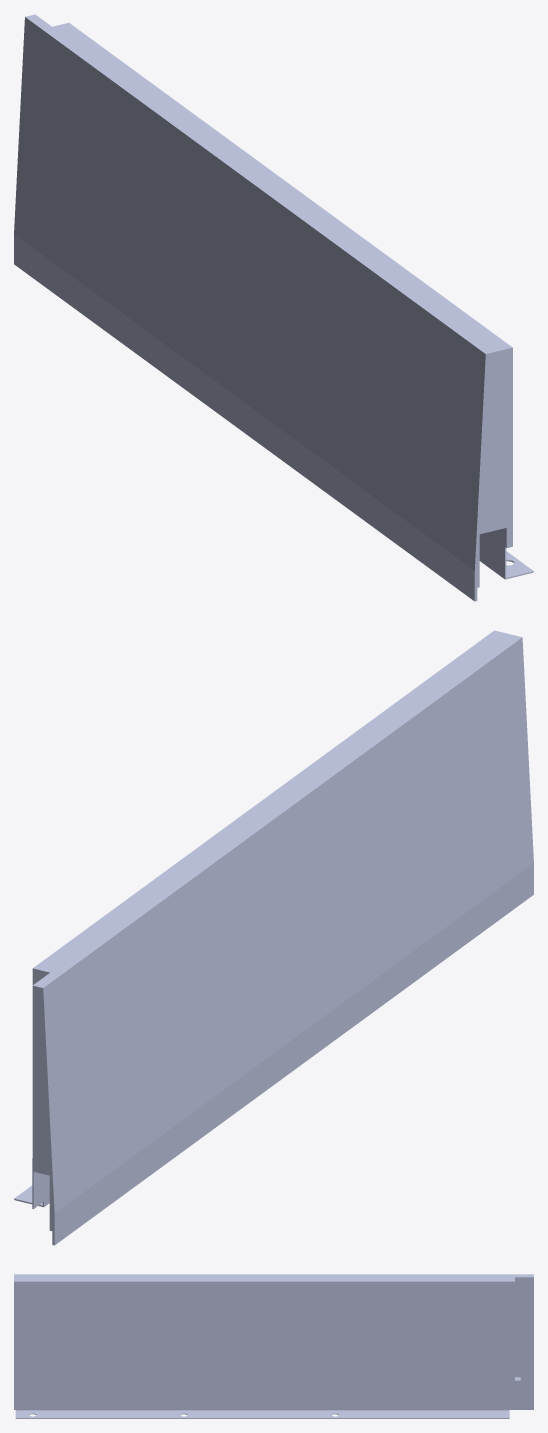
Rendered from mv-kava-K450-p.glb.
3 views of the same model, one above another, from view 1: azimuth 30°, elevation 25°; view 2: azimuth 150°, elevation 25°; view 3: azimuth 270°, elevation 25° (orthographic). The views are drawn at different scales.
Parts seen in each view (by area): view 1: 43437739; view 2: 43437739; view 3: 43437739.
Boxes of the visible parts, x1,y1,x2,y2 form: 43437739: (14,14,533,601); 43437739: (14,630,533,1245); 43437739: (14,1274,533,1418).
Bounding box in the file's own units: 0.0335 × 0.129 × 0.4402.
